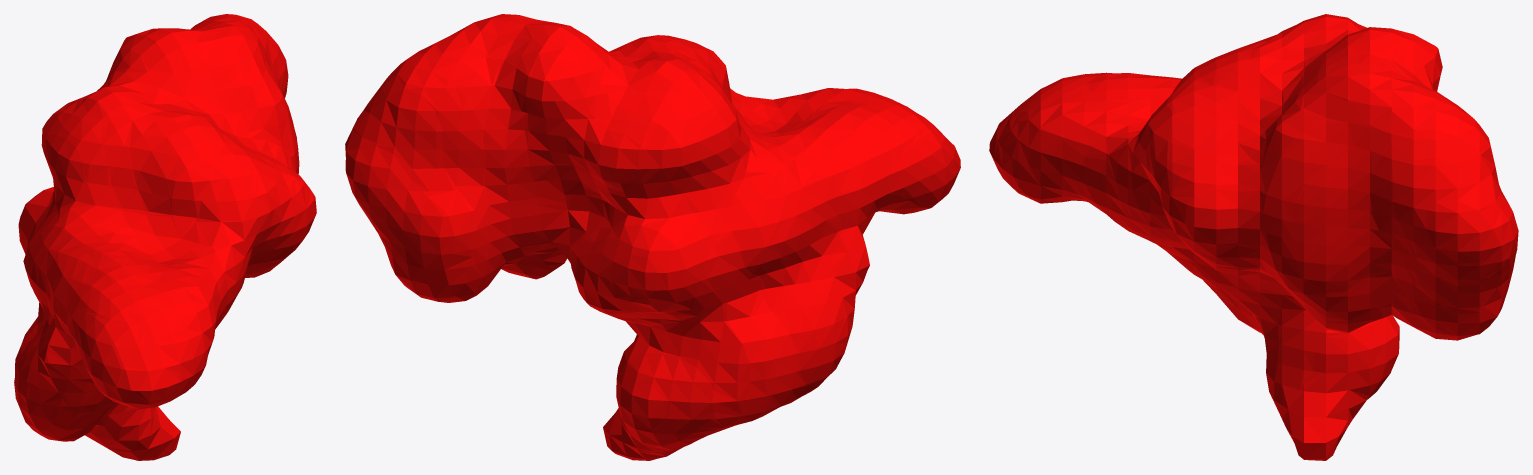
Rendered from yfgM_coarse.dae.
The picture shows the model from 3 angles, left to right: view 1: azimuth 30°, elevation 25°; view 2: azimuth 150°, elevation 25°; view 3: azimuth 270°, elevation 25°; orthographic projection. The views are drawn at different scales.
Visible parts, largest first — view 1: yfgM; view 2: yfgM; view 3: yfgM.
Part boxes in pixels (bbox=[...]): yfgM: bbox=[14, 14, 316, 460]; yfgM: bbox=[345, 14, 960, 460]; yfgM: bbox=[989, 14, 1518, 460].
Size of the model in its own units: 52.87 by 54.89 by 58.43.
